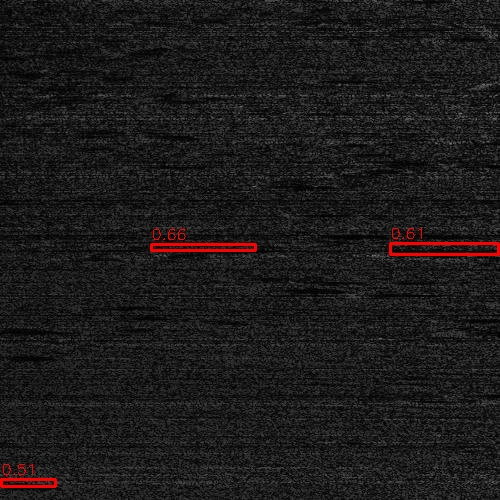rock: (435, 329, 476, 334), (457, 389, 498, 392), (484, 78, 500, 83), (0, 480, 11, 487), (0, 324, 11, 329)
shadow: (0, 480, 63, 487), (0, 324, 81, 329), (456, 329, 500, 334), (478, 389, 500, 392)
